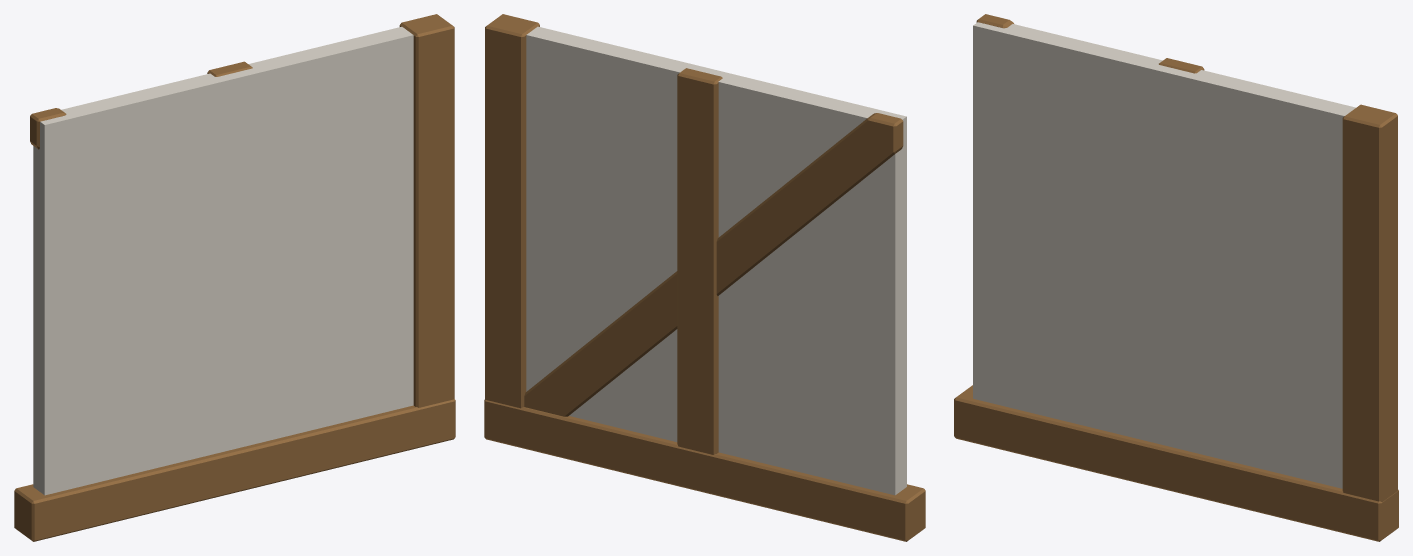
The model's file is WallVDiagR.fbx.
3 views of the same model, side by side, from view 1: azimuth 30°, elevation 25°; view 2: azimuth 150°, elevation 25°; view 3: azimuth 330°, elevation 25° (orthographic).
Parts seen in each view (by area): view 1: Cube.103, Cube.112, Cube.108, Cube.111; view 2: Cube.103, Cube.112, Cube.111, Cube.108, Cube.104; view 3: Cube.103, Cube.108, Cube.112.
Part boxes in pixels (x1,y1,x2,y2): Cube.103: (33, 26, 413, 495); Cube.112: (14, 399, 455, 541); Cube.108: (399, 14, 454, 407); Cube.111: (30, 108, 66, 149); Cube.103: (526, 26, 906, 495); Cube.112: (484, 399, 925, 541); Cube.111: (524, 113, 903, 416); Cube.108: (485, 14, 539, 408); Cube.104: (677, 68, 722, 454); Cube.103: (973, 22, 1355, 488); Cube.108: (1342, 104, 1397, 502); Cube.112: (954, 385, 1398, 541).
Size of the model in its own units: 216 by 202 by 17.27.
